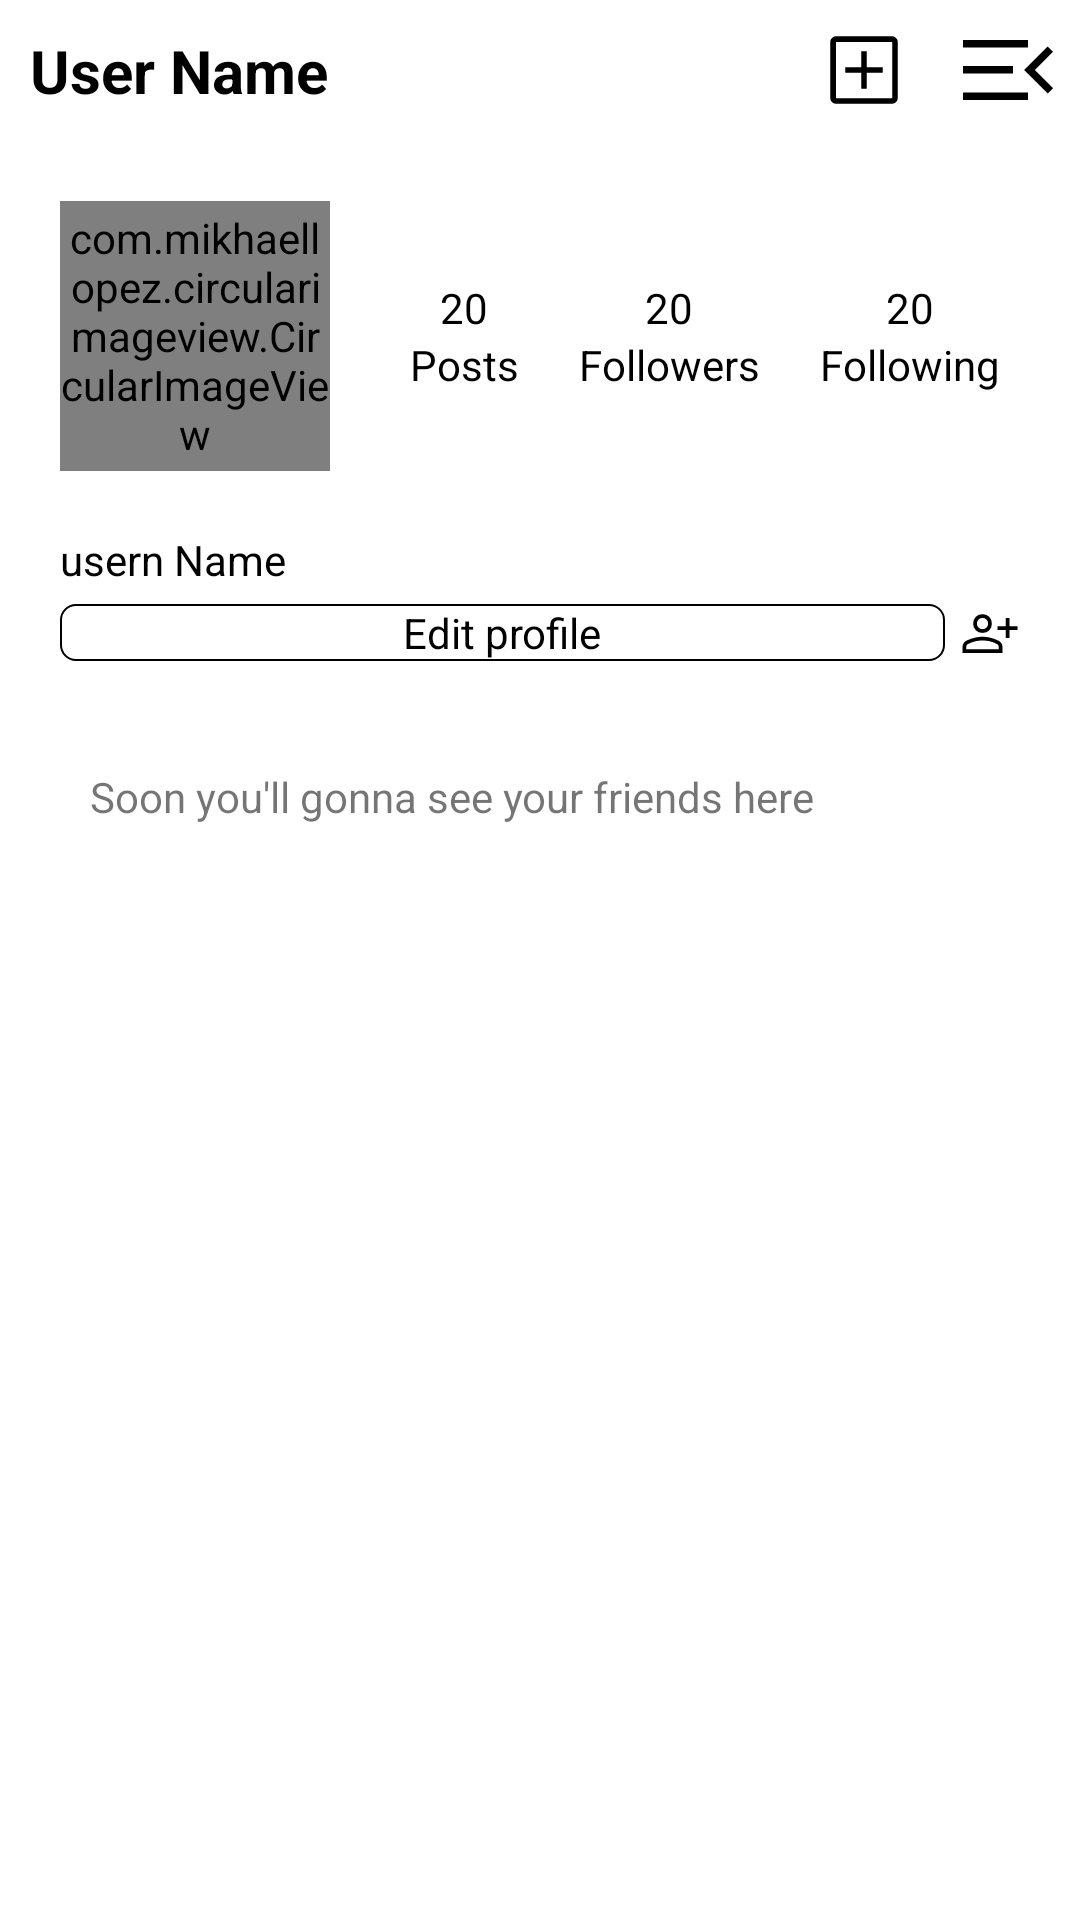

Icons on this 1080×1920 Android screen, each with the point to tap as (x=x, y=y):
add post: (x=864, y=70)
person add: (x=990, y=633)
profile side option: (x=1008, y=70)
